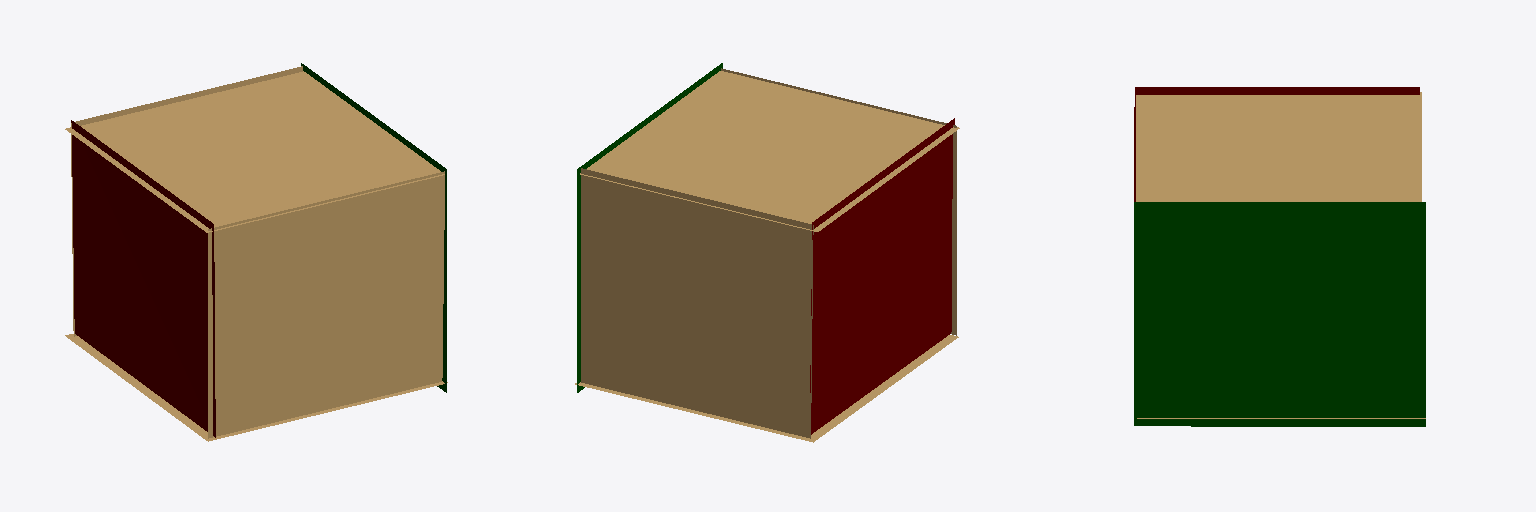
The model's file is map.obj.
3 views of the same model, side by side, from view 1: azimuth 30°, elevation 25°; view 2: azimuth 150°, elevation 25°; view 3: azimuth 270°, elevation 25° (orthographic).
Visible parts, largest first — view 1: back_wall, ceiling, left_wall, floor, right_wall, front_wall; view 2: front_wall, ceiling, left_wall, floor, right_wall, back_wall; view 3: right_wall, ceiling, left_wall.
Part boxes in pixels (left/top/right/bottom): back_wall: left=208, top=171, right=444, bottom=438; ceiling: left=65, top=71, right=444, bottom=232; left_wall: left=71, top=120, right=215, bottom=437; floor: left=65, top=334, right=447, bottom=441; right_wall: left=301, top=63, right=446, bottom=392; front_wall: left=71, top=66, right=302, bottom=336; front_wall: left=581, top=168, right=813, bottom=438; ceiling: left=580, top=71, right=959, bottom=231; left_wall: left=810, top=118, right=954, bottom=434; floor: left=575, top=335, right=958, bottom=442; right_wall: left=577, top=63, right=722, bottom=392; back_wall: left=721, top=68, right=956, bottom=335; right_wall: left=1134, top=202, right=1425, bottom=426; ceiling: left=1136, top=92, right=1421, bottom=201; left_wall: left=1134, top=87, right=1419, bottom=201.
Size of the model in its own units: 5.32 by 4.76 by 5.58.